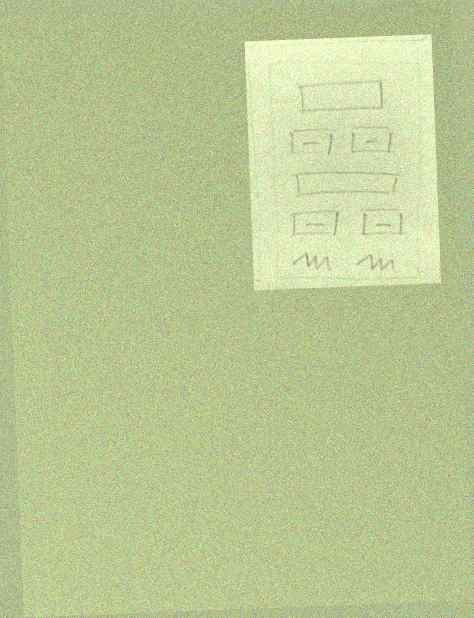button: (284, 122, 340, 159), (355, 205, 408, 240), (349, 121, 398, 158), (287, 208, 343, 239)
text: (352, 247, 402, 275), (289, 247, 337, 275)
text_input: (288, 166, 405, 202), (290, 77, 391, 115)
